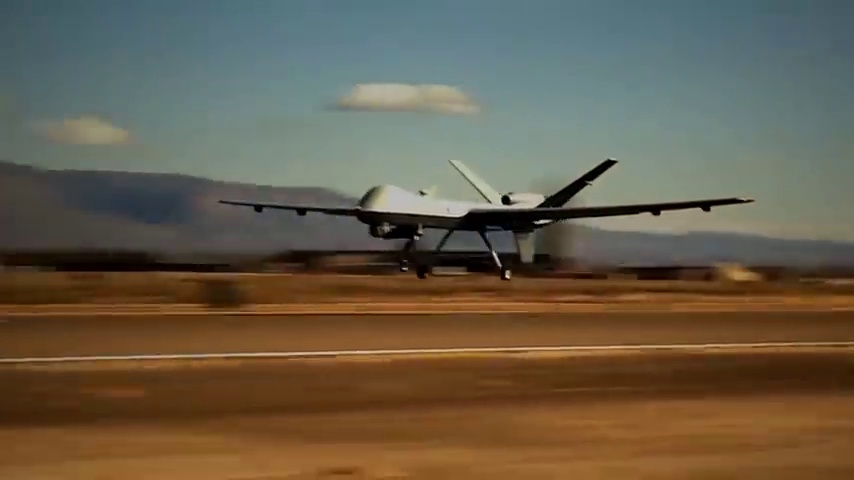military drone: (218, 157, 756, 280)
